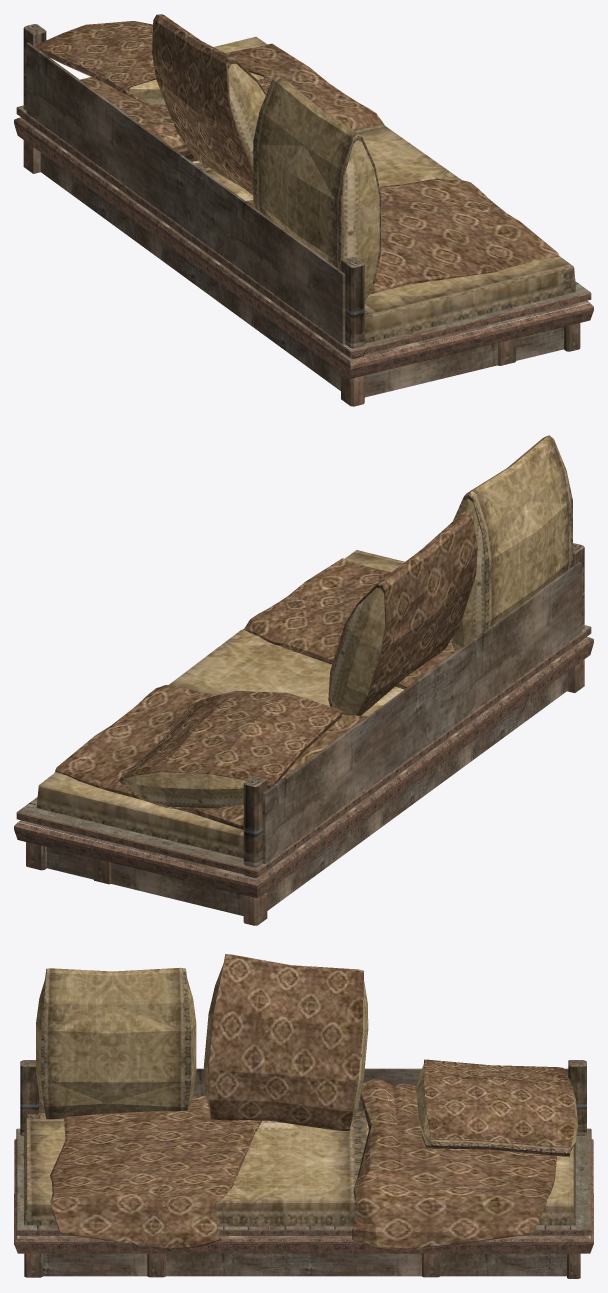
Rendered from TW2_5_FUR_01_8-transformed.glb.
The picture shows the model from 3 angles, top to bottom: view 1: azimuth 30°, elevation 25°; view 2: azimuth 150°, elevation 25°; view 3: azimuth 270°, elevation 25°; orthographic projection. The views are drawn at different scales.
Visible parts, largest first — view 1: default; view 2: default; view 3: default.
Part boxes in pixels (x1,y1,x2,y2): default: (14,14,593,406); default: (14,435,593,925); default: (14,954,593,1278).
Size of the model in its own units: 1.59 by 1.53 by 3.58.
3 materials, 3 textured.
